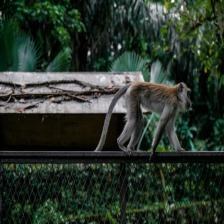monkey: (104, 76, 200, 158)
